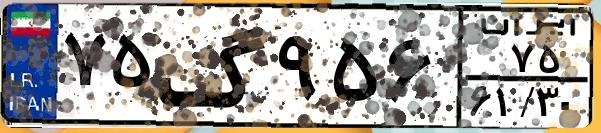0: (560, 70, 590, 125)
1: (495, 70, 520, 125)
3: (535, 70, 560, 125)
5: (330, 28, 385, 110), (110, 28, 156, 98), (537, 27, 568, 80)
6: (385, 28, 445, 110), (470, 70, 495, 125)
7: (57, 26, 110, 100), (508, 27, 537, 80)
9: (270, 28, 330, 110)
گ: (156, 12, 270, 120)
